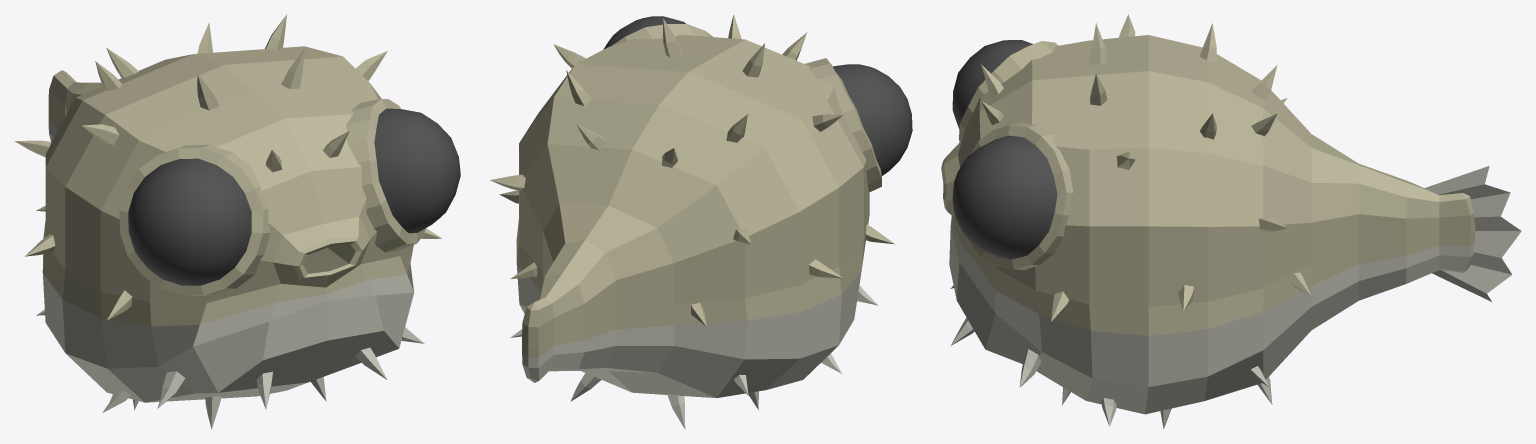
The model's file is puffer.glb.
The picture shows the model from 3 angles, left to right: view 1: azimuth 30°, elevation 25°; view 2: azimuth 150°, elevation 25°; view 3: azimuth 270°, elevation 25°; orthographic projection. The views are drawn at different scales.
Parts seen in each view (by area): view 1: cutefish__Puffer.glb; view 2: cutefish__Puffer.glb; view 3: cutefish__Puffer.glb.
Part boxes in pixels (<box>): cutefish__Puffer.glb: <box>14,14,460,429</box>; cutefish__Puffer.glb: <box>490,14,912,429</box>; cutefish__Puffer.glb: <box>941,14,1521,429</box>.
Bounding box in the file's own units: 2.81 × 2.62 × 4.02.
